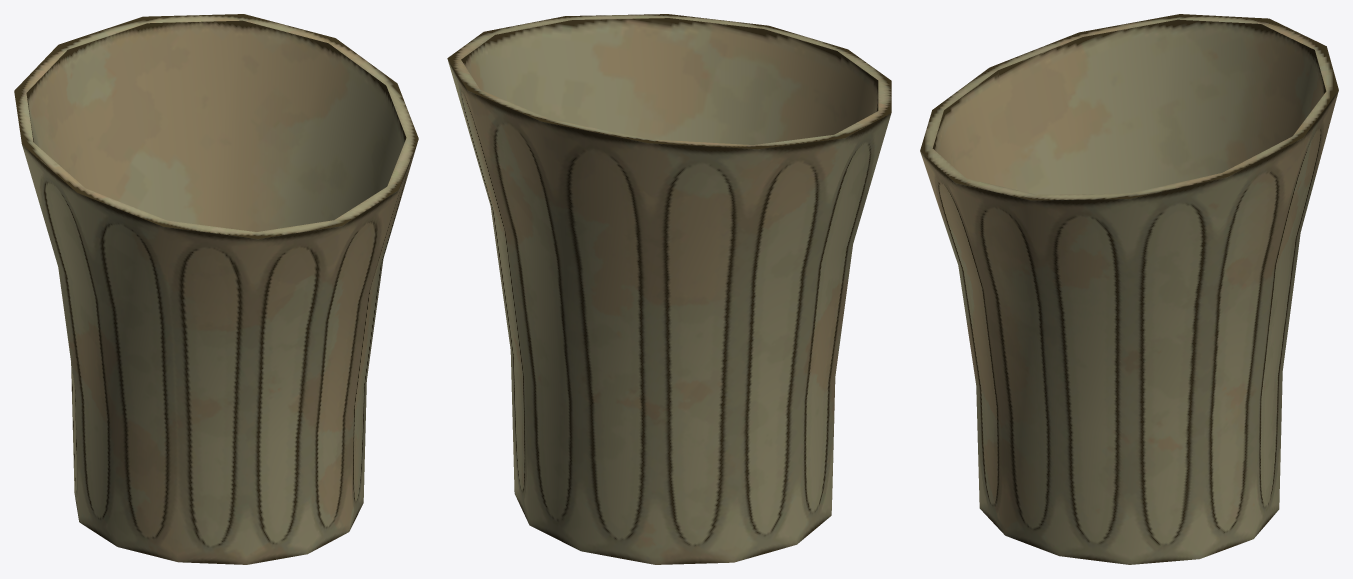
The model's file is SM_trash_can_01.glb.
The picture shows the model from 3 angles, left to right: view 1: azimuth 30°, elevation 25°; view 2: azimuth 150°, elevation 25°; view 3: azimuth 270°, elevation 25°; orthographic projection. The views are drawn at different scales.
Parts seen in each view (by area): view 1: SM_trash_can_01; view 2: SM_trash_can_01; view 3: SM_trash_can_01.
Boxes of the visible parts, bbox=[...] form: SM_trash_can_01: bbox=[14, 14, 418, 564]; SM_trash_can_01: bbox=[447, 14, 891, 564]; SM_trash_can_01: bbox=[920, 14, 1338, 564].
Bounding box in the file's own units: 0.8729 × 0.9697 × 0.871.
1 material, 1 textured.
